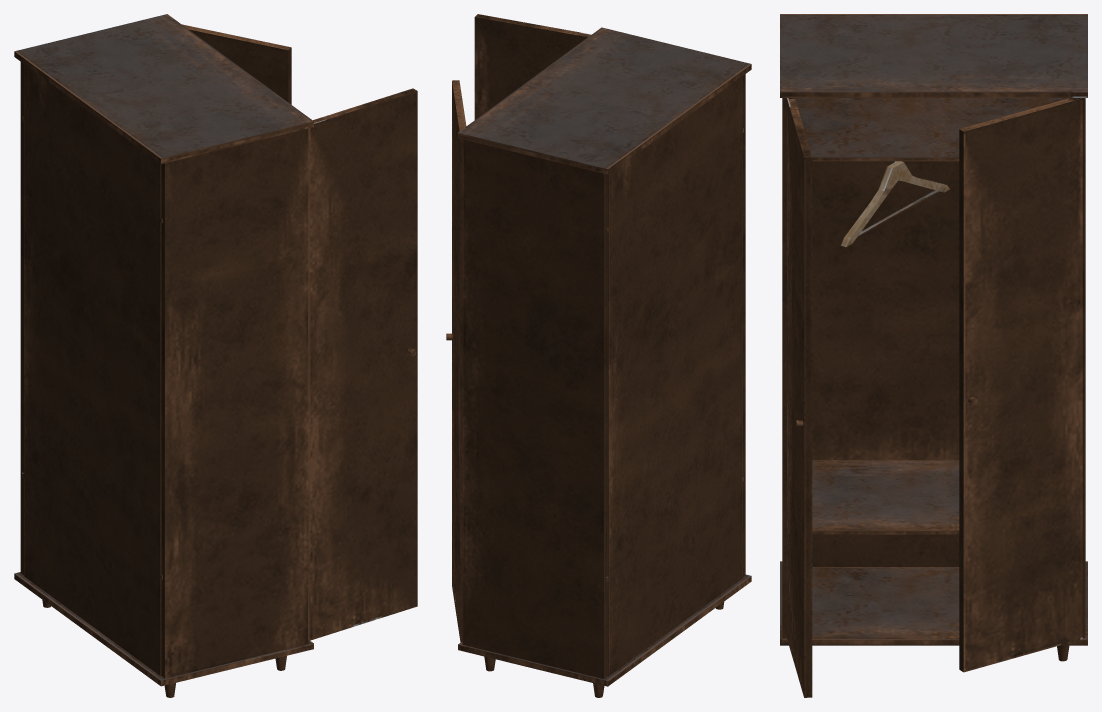
Rendered from closet.fbx.
3 renders of one model, left to right at view 1: azimuth 30°, elevation 25°; view 2: azimuth 150°, elevation 25°; view 3: azimuth 270°, elevation 25°, orthographic. The views are drawn at different scales.
Parts seen in each view (by area): view 1: Cube.002, Cube, Cube.006, Cube.003, Cube.005, Cube.001; view 2: Cube.002, Cube, Cube.003, Cube.006, Cube.005, Cube.001; view 3: Cube.005, Cube, Cube.003, Cube.006, Cube.001, Cube.008, Cube.007, Cube.002, Cube.009.
Part boxes in pixels (bbox=[...]): Cube.002: bbox=[20, 62, 309, 678]; Cube: bbox=[24, 64, 161, 675]; Cube.006: bbox=[309, 88, 417, 640]; Cube.003: bbox=[14, 14, 313, 164]; Cube.005: bbox=[182, 24, 291, 104]; Cube.001: bbox=[14, 572, 313, 686]; Cube.002: bbox=[462, 74, 745, 678]; Cube: bbox=[607, 77, 742, 676]; Cube.003: bbox=[458, 27, 751, 174]; Cube.006: bbox=[474, 14, 591, 119]; Cube.005: bbox=[452, 80, 466, 642]; Cube.001: bbox=[458, 574, 751, 686]; Cube.005: bbox=[959, 98, 1082, 672]; Cube: bbox=[812, 161, 959, 566]; Cube.003: bbox=[780, 14, 1087, 97]; Cube.006: bbox=[787, 98, 812, 697]; Cube.001: bbox=[780, 561, 1087, 645]; Cube.008: bbox=[795, 98, 1068, 161]; Cube.007: bbox=[812, 460, 959, 534]; Cube.002: bbox=[782, 98, 1085, 637]; Cube.009: bbox=[841, 161, 949, 247].
Size of the model in its own units: 217 by 426 by 205.
Materials: 1 (1 with a texture image).
